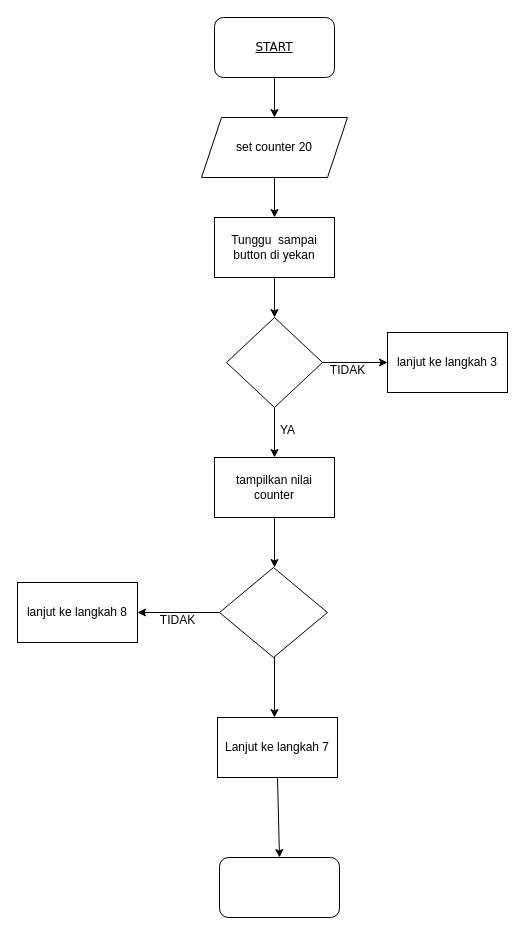
This 525x935 diagram has some shape labels left out. Each missing label, with the centre of its shape:
"apakah count >0?" goes at point 273,612.
"cek button" goes at point 274,362.
"STOP" goes at point 279,887.
